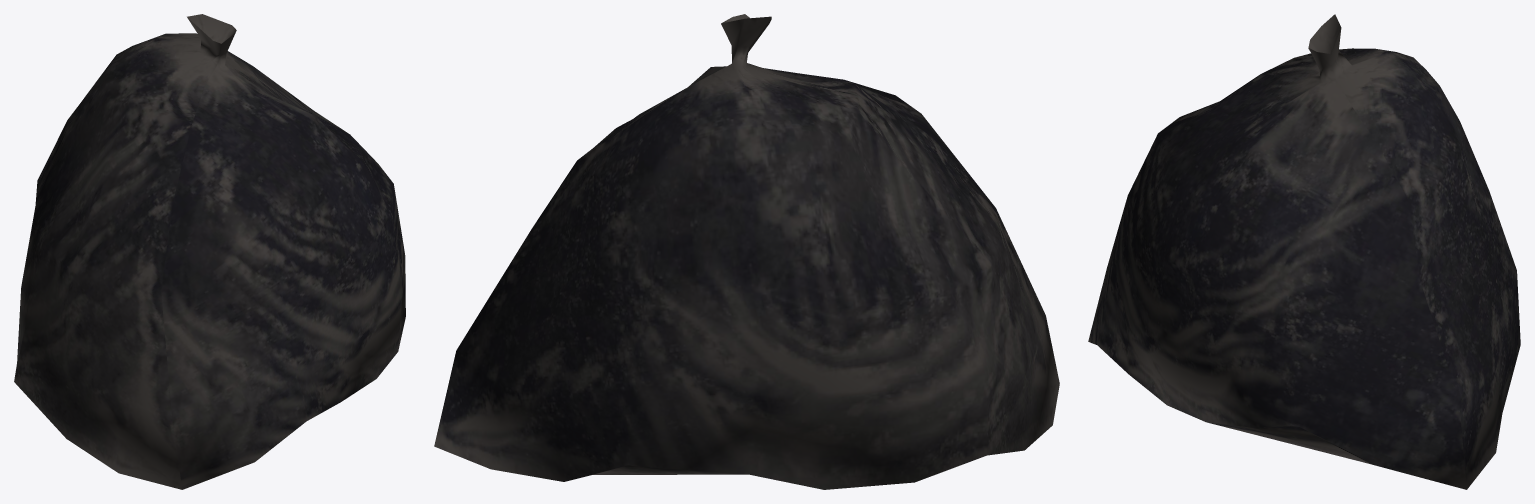
The model's file is SM_Bag.fbx.
3 renders of one model, left to right at view 1: azimuth 30°, elevation 25°; view 2: azimuth 150°, elevation 25°; view 3: azimuth 270°, elevation 25°, orthographic. The views are drawn at different scales.
Parts seen in each view (by area): view 1: SM_Bag; view 2: SM_Bag; view 3: SM_Bag.
Part boxes in pixels (bbox=[...]): SM_Bag: bbox=[14, 14, 405, 489]; SM_Bag: bbox=[434, 14, 1059, 489]; SM_Bag: bbox=[1088, 14, 1520, 489].
Bounding box in the file's own units: 35.95 × 31.81 × 33.74.
Materials: 1 (1 with a texture image).
